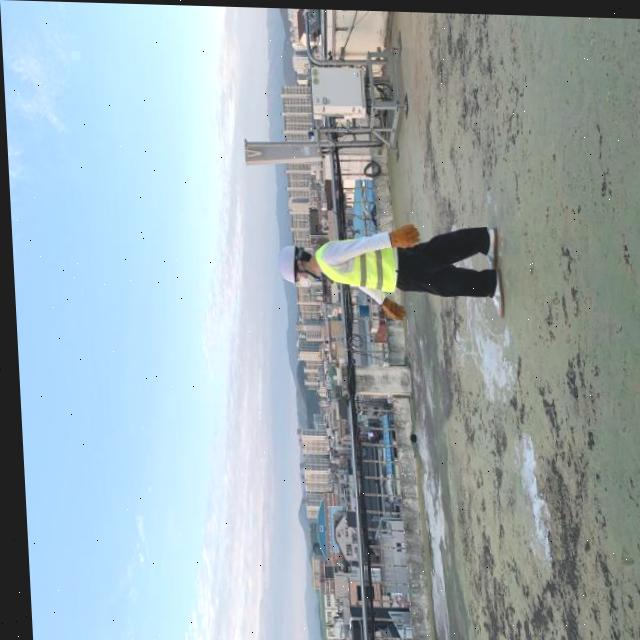Gloves: (384, 219, 418, 248), (377, 294, 403, 318)
Safety-Vest: (309, 226, 396, 291)
